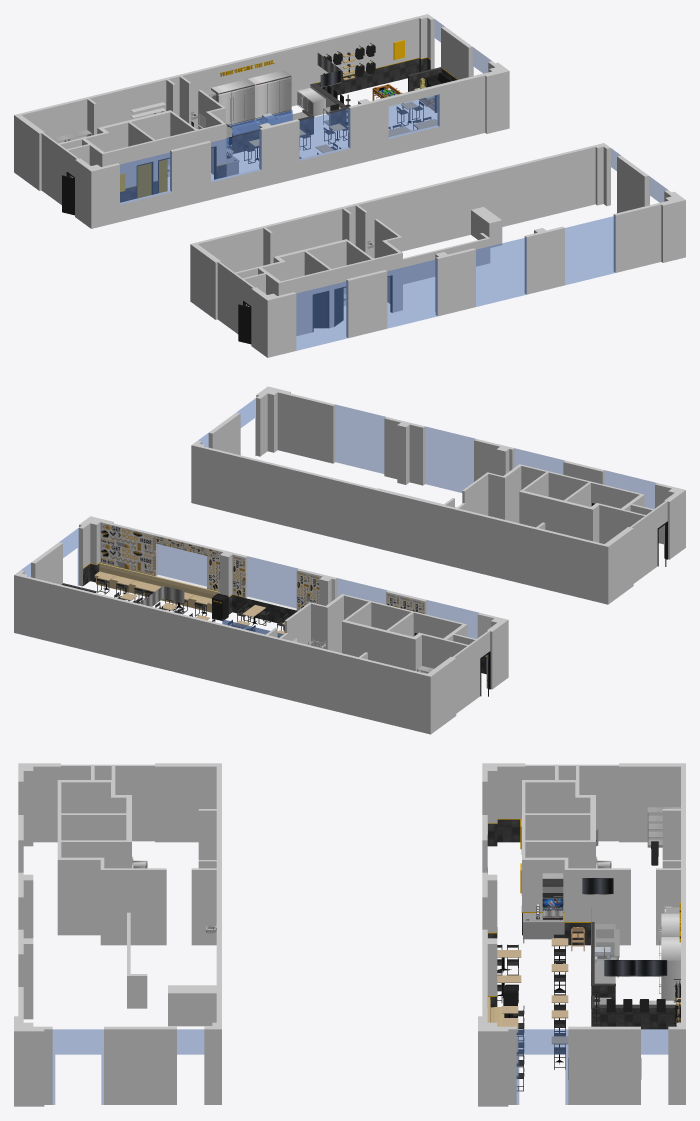
3 renders of one model, top to bottom at view 1: azimuth 30°, elevation 25°; view 2: azimuth 150°, elevation 25°; view 3: azimuth 270°, elevation 25°, orthographic. The views are drawn at different scales.
Visible parts, largest first — view 1: Root_surface_00, Walls_surface_00, Root_surface_01, Walls_surface_01, Walls_surface_05, 3 Door Dridge_surface_00.001, 3 Door Dridge_surface_00, Front walls_surface_01, Glass#3_surface_00, 3 Door Dridge_surface_00.002, FlushDoor#1_surface_00.006, FlushDoor#1_surface_00.005; view 2: Root_surface_00, Walls_surface_00, Root_surface_01, Walls_surface_01, Booth_Bench_4_Person#3_surface_00, Walls_surface_05, Generic Wall Mural.png, Generic Wall Mural.png.001, Walls_surface_02, Generic Wall Mural.png.005; view 3: Root_surface_00, Walls_surface_00, Walls_surface_01, Root_surface_01, Front walls_surface_01, Walls_surface_05, 3 Door Dridge_surface_00.001, counter_surface_00, 56013f91-9b97-4dad-bab0-e11b5c29878d#1_surface_00.
Boxes of the visible parts, x1,y1,x2,y2 form: Root_surface_00: [190, 143, 685, 357]; Walls_surface_00: [14, 14, 509, 228]; Root_surface_01: [296, 148, 667, 350]; Walls_surface_01: [120, 19, 491, 204]; Walls_surface_05: [120, 58, 456, 202]; 3 Door Dridge_surface_00.001: [248, 70, 291, 121]; 3 Door Dridge_surface_00: [211, 79, 254, 125]; Front walls_surface_01: [229, 109, 346, 153]; Glass#3_surface_00: [230, 110, 292, 136]; 3 Door Dridge_surface_00.002: [297, 88, 325, 116]; FlushDoor#1_surface_00.006: [313, 292, 327, 328]; FlushDoor#1_surface_00.005: [238, 304, 251, 344]; Root_surface_00: [191, 386, 685, 604]; Walls_surface_00: [14, 516, 508, 734]; Root_surface_01: [198, 398, 656, 508]; Walls_surface_01: [21, 528, 478, 638]; Booth_Bench_4_Person#3_surface_00: [94, 563, 219, 612]; Walls_surface_05: [83, 564, 486, 674]; Generic Wall Mural.png: [100, 541, 155, 575]; Generic Wall Mural.png.001: [100, 522, 155, 554]; Walls_surface_02: [207, 551, 493, 656]; Generic Wall Mural.png.005: [232, 556, 245, 597]; Root_surface_00: [14, 763, 221, 1106]; Walls_surface_00: [478, 763, 685, 1106]; Walls_surface_01: [516, 1029, 668, 1104]; Root_surface_01: [52, 1029, 204, 1104]; Front walls_surface_01: [591, 986, 676, 1029]; Walls_surface_05: [487, 819, 590, 1007]; 3 Door Dridge_surface_00.001: [659, 937, 680, 1000]; counter_surface_00: [591, 922, 676, 1008]; 56013f91-9b97-4dad-bab0-e11b5c29878d#1_surface_00: [647, 807, 680, 847].
Bounding box in the file's own units: 23.46 × 3.09 × 24.56.
135 materials, 51 textured.
